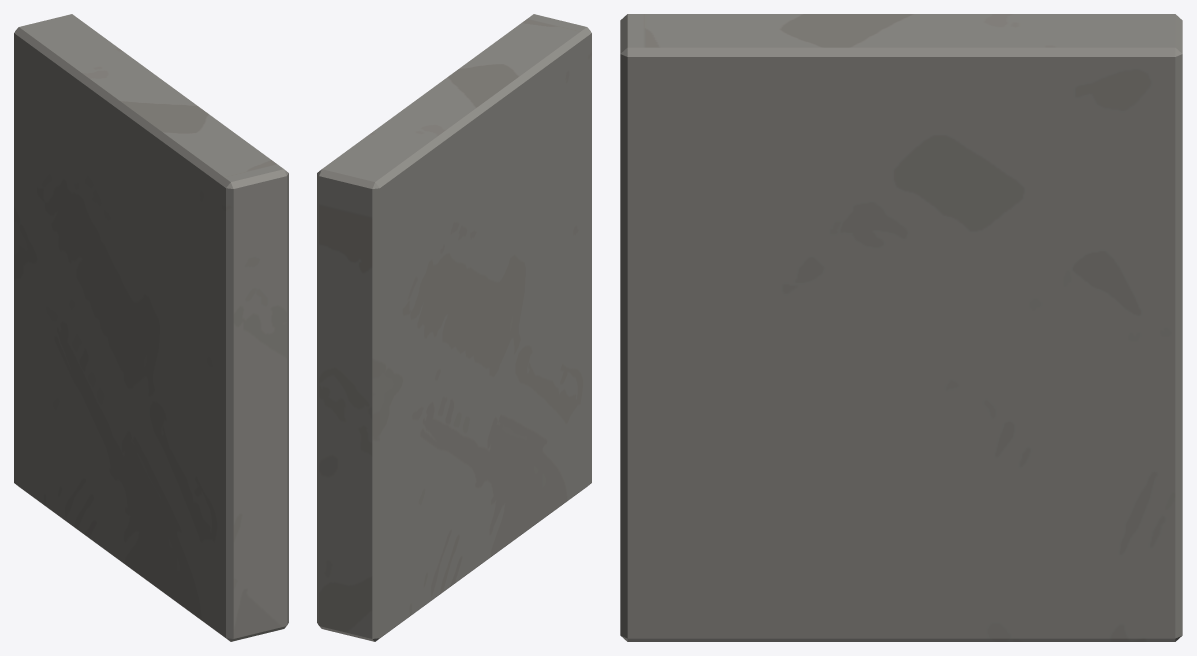
The model's file is model_concrete_wall.fbx.
3 renders of one model, left to right at view 1: azimuth 30°, elevation 25°; view 2: azimuth 150°, elevation 25°; view 3: azimuth 270°, elevation 25°, orthographic. The views are drawn at different scales.
Parts seen in each view (by area): view 1: model_concrete_wall; view 2: model_concrete_wall; view 3: model_concrete_wall.
Part boxes in pixels (x1=…): model_concrete_wall: x1=14, y1=14, x2=288, y2=641; model_concrete_wall: x1=317, y1=14, x2=591, y2=641; model_concrete_wall: x1=620, y1=14, x2=1182, y2=641.
Size of the model in its own units: 50 by 350 by 300.
1 material, 1 textured.
